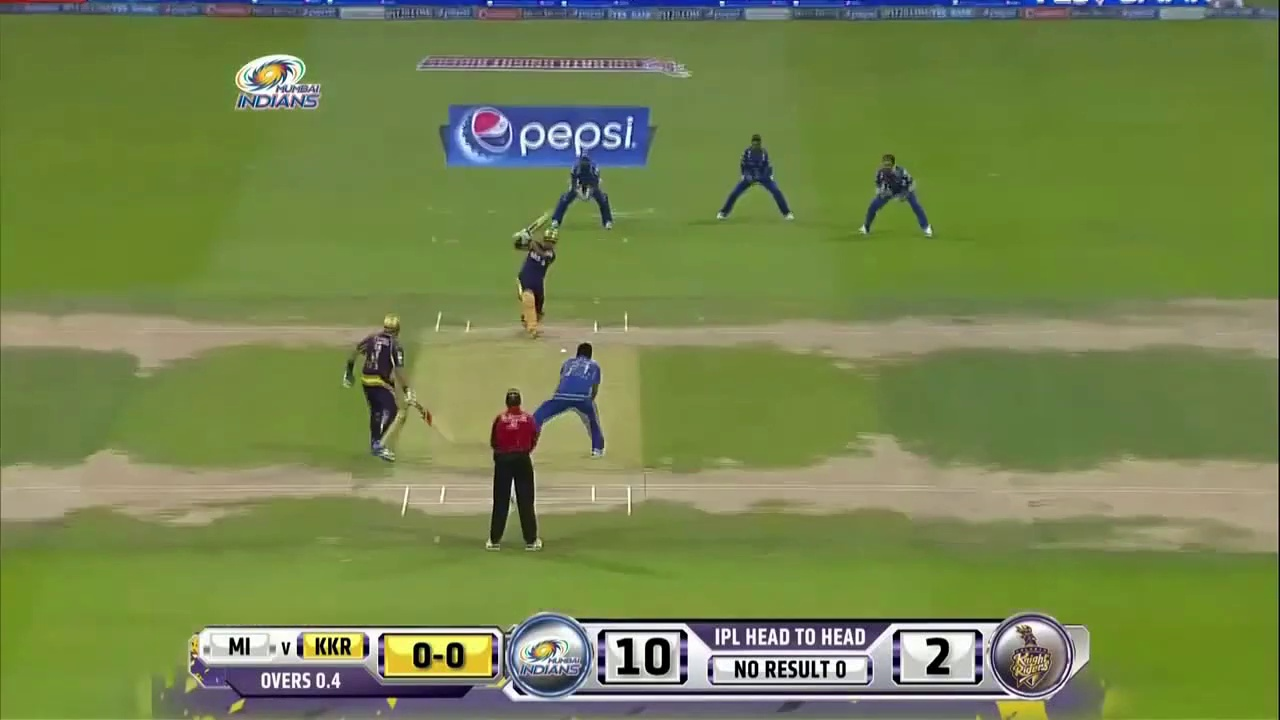bat: (530, 214, 550, 233)
